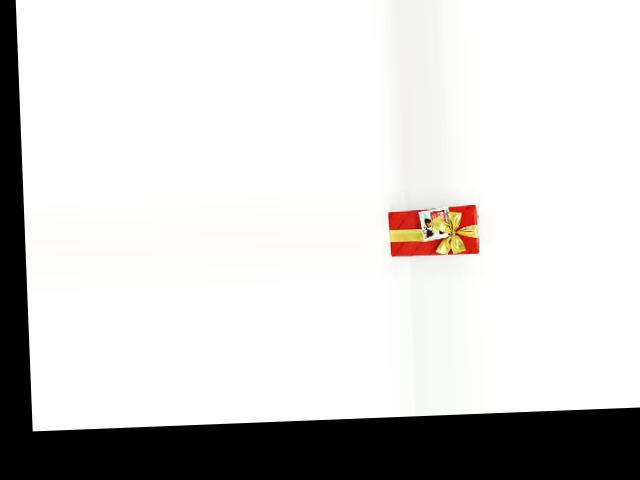chocolate: (389, 205, 482, 261)
